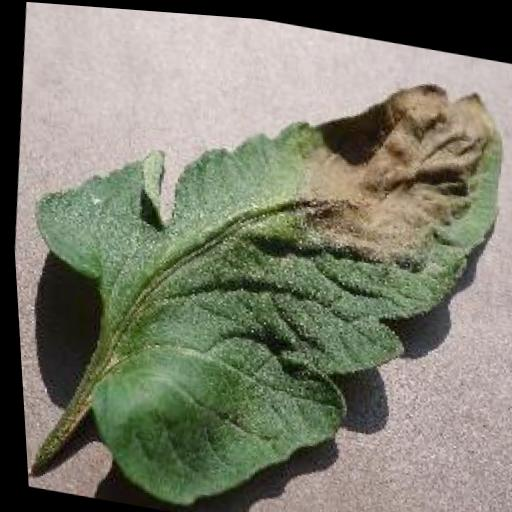Late Blight: (0, 4, 512, 512)
